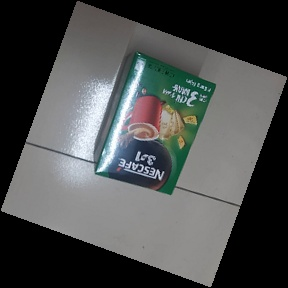Nes Rang: (94, 50, 218, 196)
